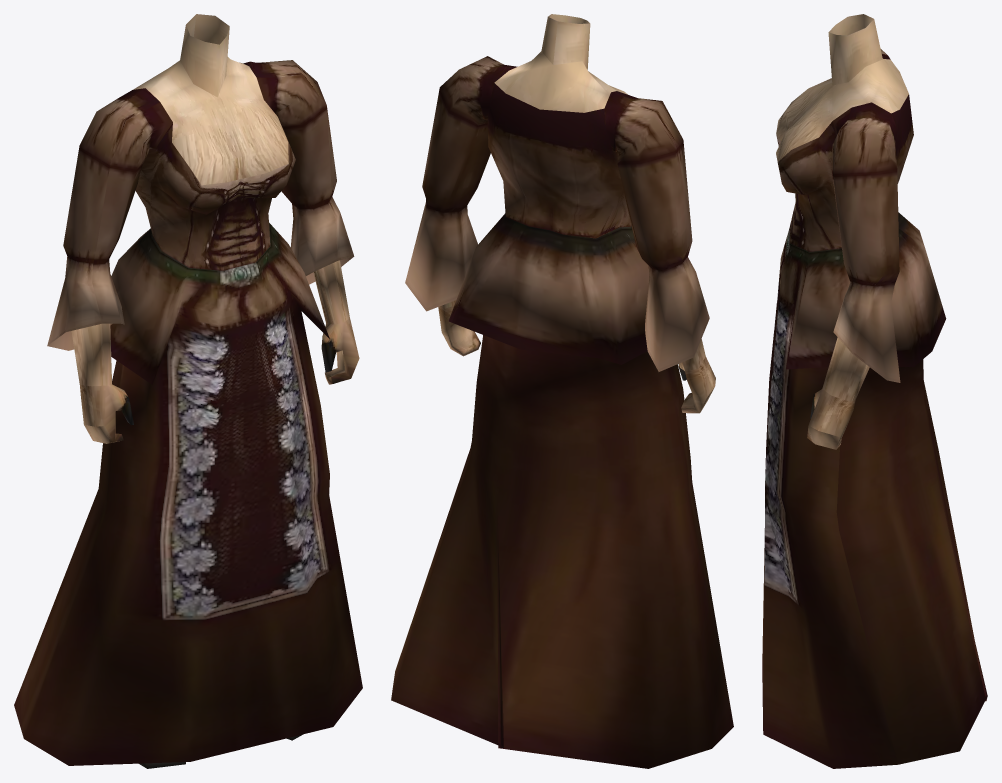
File: ARMOR_BAUBABE_M2.glb
The picture shows the model from 3 angles, left to right: view 1: azimuth 30°, elevation 25°; view 2: azimuth 150°, elevation 25°; view 3: azimuth 270°, elevation 25°; orthographic projection. The views are drawn at different scales.
Visible parts, largest first — view 1: ARMOR_BAUBABE_M2; view 2: ARMOR_BAUBABE_M2; view 3: ARMOR_BAUBABE_M2.
Boxes of the visible parts, x1,y1,x2,y2 form: ARMOR_BAUBABE_M2: (14,14,362,768); ARMOR_BAUBABE_M2: (391,14,733,768); ARMOR_BAUBABE_M2: (762,14,987,768).
Bounding box in the file's own units: 0.77 × 1.65 × 0.4842.
2 materials, 2 textured.
